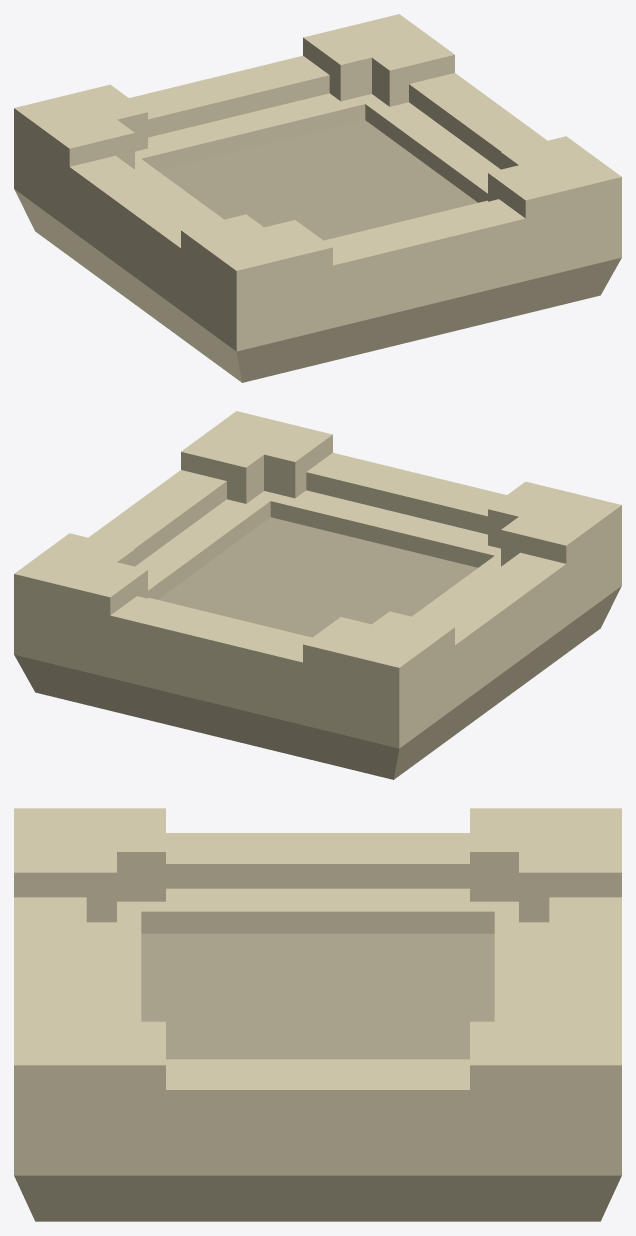
File: towerSquareTop.fbx
3 renders of one model, top to bottom at view 1: azimuth 30°, elevation 25°; view 2: azimuth 150°, elevation 25°; view 3: azimuth 270°, elevation 25°, orthographic. The views are drawn at different scales.
Parts seen in each view (by area): view 1: towerSquareTop; view 2: towerSquareTop; view 3: towerSquareTop.
Part boxes in pixels (<box>): towerSquareTop: <box>14,14,621,382</box>; towerSquareTop: <box>14,411,621,779</box>; towerSquareTop: <box>14,808,621,1221</box>.
Size of the model in its own units: 10 by 3 by 10.
